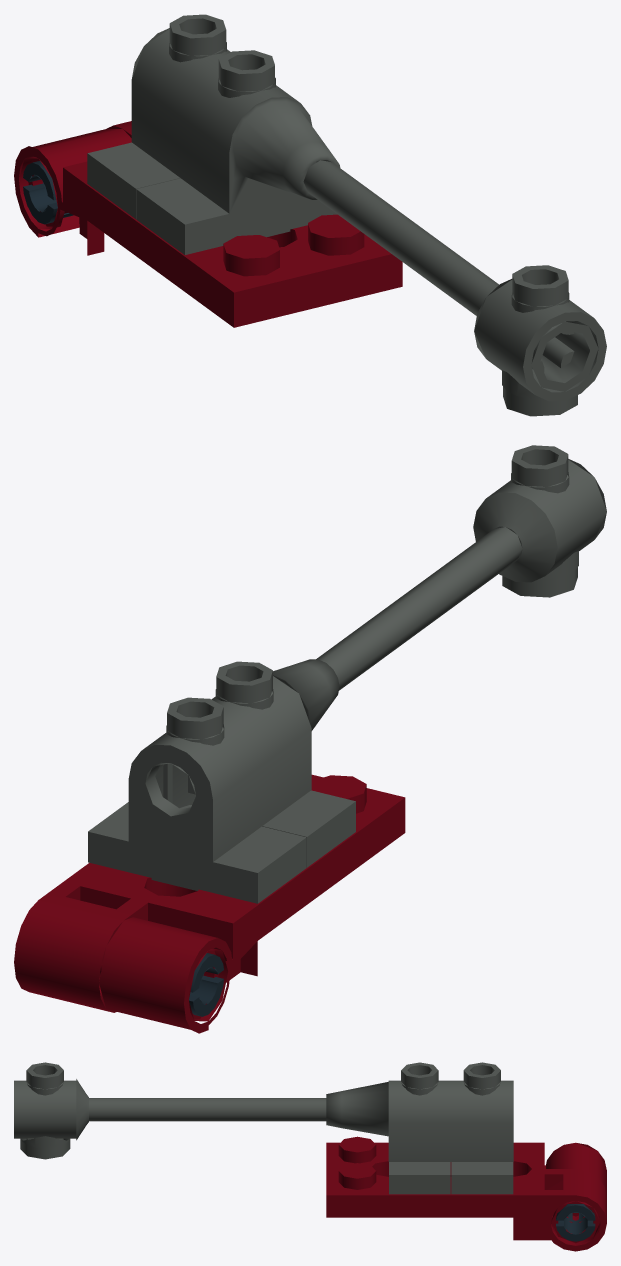
The model's file is tank3_cannon.glb.
3 views of the same model, one above another, from view 1: azimuth 30°, elevation 25°; view 2: azimuth 150°, elevation 25°; view 3: azimuth 270°, elevation 25° (orthographic). The views are drawn at different scales.
Parts seen in each view (by area): view 1: 30359b.dat, 30359b.dat.001; view 2: 30359b.dat, 30359b.dat.001; view 3: 30359b.dat, 30359b.dat.001.
Part boxes in pixels (x1,y1,x2,y2): 30359b.dat: (87,14,606,416); 30359b.dat.001: (14,121,402,327); 30359b.dat: (88,445,606,903); 30359b.dat.001: (14,774,405,1033); 30359b.dat: (14,1062,513,1194); 30359b.dat.001: (326,1136,606,1251).
Bounding box in the file's own units: 0.199 × 0.2746 × 0.9485.
